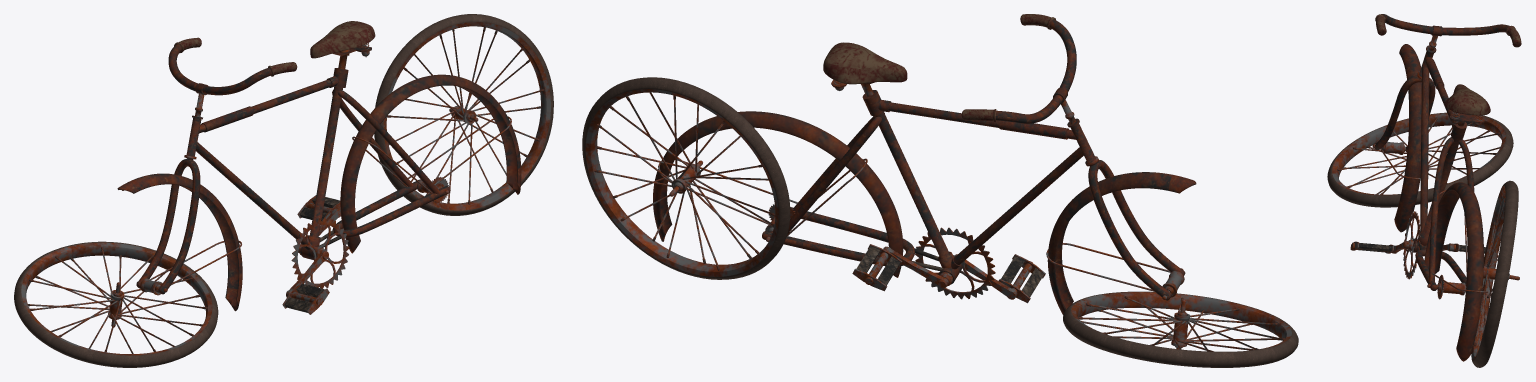
File: broken-bicycle.glb
3 renders of one model, left to right at view 1: azimuth 30°, elevation 25°; view 2: azimuth 150°, elevation 25°; view 3: azimuth 270°, elevation 25°, orthographic. The views are drawn at different scales.
Visible parts, largest first — view 1: Bicycle_Broken, Bicycle_Broken_Wheel_2, Bicycle_Broken_Wheel_1; view 2: Bicycle_Broken, Bicycle_Broken_Wheel_1, Bicycle_Broken_Wheel_2; view 3: Bicycle_Broken, Bicycle_Broken_Wheel_2, Bicycle_Broken_Wheel_1.
Boxes of the visible parts, x1,y1,x2,y2 form: Bicycle_Broken: (117, 21, 521, 314); Bicycle_Broken_Wheel_2: (14, 241, 218, 367); Bicycle_Broken_Wheel_1: (374, 14, 553, 215); Bicycle_Broken: (653, 14, 1196, 314); Bicycle_Broken_Wheel_1: (582, 77, 790, 279); Bicycle_Broken_Wheel_2: (1063, 291, 1298, 367); Bicycle_Broken: (1350, 14, 1521, 361); Bicycle_Broken_Wheel_2: (1327, 112, 1513, 207); Bicycle_Broken_Wheel_1: (1471, 180, 1519, 367).
Bounding box in the file's own units: 2.01 × 0.8488 × 0.6463.
Materials: 1 (1 with a texture image).
